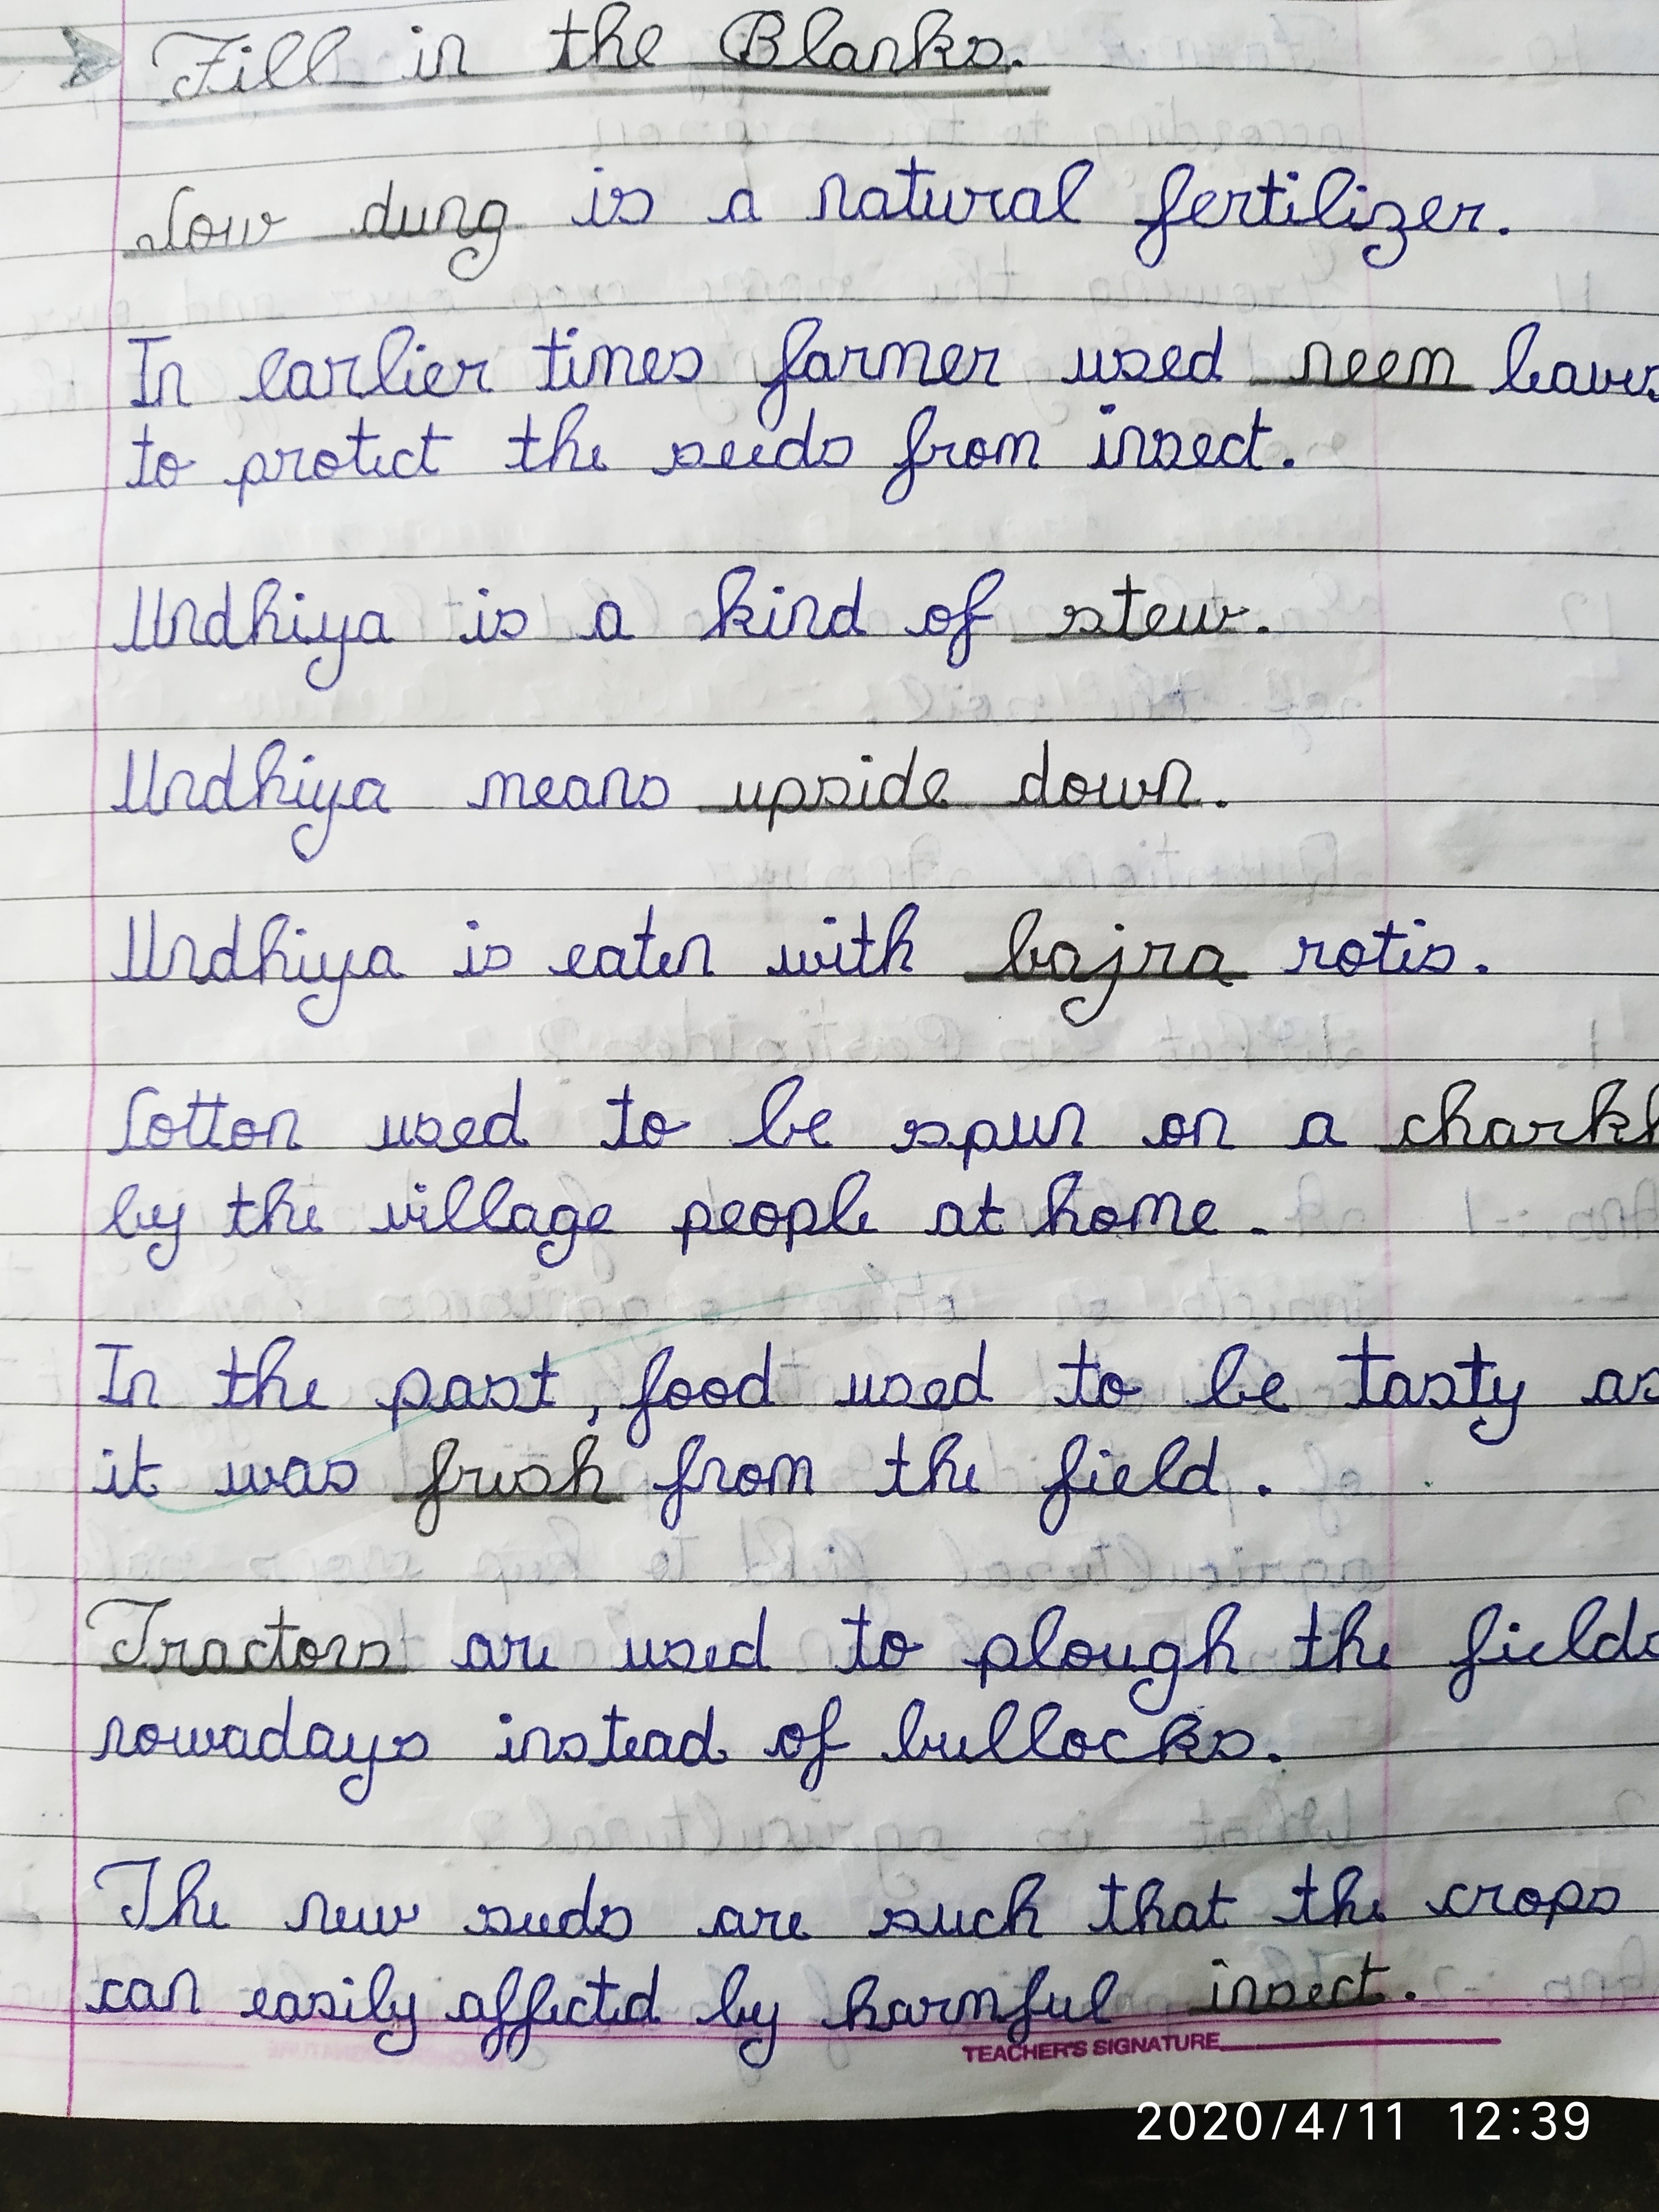A: (1147, 2036, 1162, 2054), (993, 2045, 1007, 2062)
B: (720, 9, 786, 68)
C: (134, 185, 195, 251), (106, 1085, 160, 1157), (1007, 2043, 1023, 2062)
E: (1206, 2031, 1222, 2050), (978, 2045, 993, 2062), (1039, 2043, 1053, 2060)
F: (152, 30, 251, 101)
G: (1114, 2036, 1131, 2055)
H: (1023, 2043, 1039, 2060)
I: (125, 334, 173, 408), (94, 1341, 134, 1407), (1108, 2038, 1114, 2055)
N: (1131, 2036, 1148, 2055)
R: (1053, 2041, 1068, 2059), (1190, 2033, 1206, 2050)
S: (1072, 2041, 1089, 2057), (1093, 2038, 1108, 2055)
T: (84, 1595, 173, 1667), (92, 1855, 164, 1930), (960, 2045, 978, 2064), (1161, 2034, 1175, 2052)
U: (110, 909, 166, 984), (113, 583, 167, 653), (110, 747, 162, 817), (1173, 2033, 1190, 2052)
a: (579, 599, 636, 641), (1182, 944, 1236, 988), (1290, 1109, 1351, 1148), (706, 186, 763, 223), (924, 1200, 969, 1238), (281, 1454, 319, 1500), (460, 1632, 502, 1672), (349, 777, 392, 815), (300, 1721, 338, 1764), (1006, 186, 1047, 225), (1586, 1367, 1628, 1406), (361, 944, 404, 981), (1046, 939, 1082, 982), (1377, 1371, 1417, 1409), (282, 361, 319, 402), (354, 610, 396, 646), (708, 1904, 751, 1939), (556, 773, 594, 812), (439, 1374, 477, 1413), (854, 186, 896, 221), (195, 1637, 234, 1674), (1481, 1116, 1523, 1150), (591, 944, 627, 981), (1546, 361, 1581, 397), (505, 1204, 542, 1238), (124, 1979, 160, 2013), (824, 40, 863, 73), (218, 1723, 251, 1761), (882, 1996, 920, 2029), (800, 350, 835, 383), (641, 1728, 674, 1763), (272, 1989, 305, 2024), (1169, 1900, 1202, 1933), (453, 1991, 488, 2022)
b: (732, 1073, 807, 1150), (995, 907, 1044, 981), (1202, 1341, 1251, 1409), (892, 1696, 934, 1763), (99, 1183, 146, 1238), (714, 1961, 751, 2029)
c: (239, 345, 289, 402), (1094, 1728, 1136, 1764), (1438, 1881, 1474, 1918), (1215, 432, 1246, 472), (92, 1977, 125, 2013), (1399, 1111, 1431, 1148), (239, 1639, 270, 1672), (971, 1905, 1000, 1939), (1328, 1973, 1356, 2008), (390, 448, 418, 479), (563, 1996, 589, 2027)
d: (479, 1076, 533, 1150), (199, 742, 247, 815), (1589, 1595, 1642, 1663), (725, 1604, 775, 1674), (674, 1705, 730, 1766), (774, 406, 821, 472), (204, 913, 247, 984), (254, 1695, 300, 1763), (556, 1871, 601, 1939), (950, 1338, 993, 1407), (824, 575, 870, 641), (877, 745, 920, 813), (735, 1339, 777, 1409), (202, 580, 242, 650), (350, 179, 397, 239), (1176, 1435, 1222, 1496), (1016, 738, 1054, 810), (1185, 324, 1227, 385), (622, 1963, 662, 2026)
e: (547, 944, 591, 981), (1256, 1371, 1293, 1413), (631, 23, 664, 68), (920, 766, 953, 810), (1183, 190, 1220, 228), (805, 1108, 838, 1150), (1187, 1198, 1220, 1238), (1415, 193, 1446, 235), (934, 343, 964, 387), (1373, 348, 1405, 388), (718, 1198, 748, 1237), (451, 1116, 483, 1151), (636, 347, 664, 385), (1159, 343, 1185, 383), (1344, 347, 1370, 387), (920, 1378, 950, 1413), (1143, 603, 1169, 639), (420, 361, 444, 399), (697, 1641, 725, 1674), (786, 1909, 814, 1942), (1190, 432, 1213, 472), (532, 775, 556, 812), (1108, 1463, 1133, 1498), (247, 1986, 272, 2020), (714, 439, 741, 470), (1303, 1982, 1328, 2010), (620, 1735, 641, 1763), (748, 442, 769, 469)
f: (758, 317, 824, 434), (1134, 162, 1195, 268), (946, 568, 1006, 669), (882, 404, 939, 505), (1446, 1602, 1502, 1703), (624, 1345, 674, 1449), (1039, 1433, 1089, 1536), (800, 1695, 850, 1792), (660, 1433, 708, 1531), (413, 1437, 458, 1538), (505, 1973, 556, 2062), (479, 1965, 525, 2062), (1007, 1965, 1051, 2045)
g: (448, 199, 509, 282), (1129, 1641, 1182, 1717), (535, 1204, 580, 1270)
h: (247, 1334, 298, 1413), (1032, 1170, 1086, 1237), (1195, 1601, 1243, 1674), (166, 1857, 213, 1928), (247, 737, 293, 810), (249, 913, 295, 986), (1330, 1599, 1375, 1670), (1002, 1871, 1049, 1939), (545, 402, 591, 472), (880, 900, 920, 979), (1436, 1078, 1480, 1150), (242, 577, 284, 648), (922, 1432, 967, 1494), (592, 0, 633, 70), (565, 1433, 608, 1496), (258, 1177, 303, 1237), (843, 1973, 885, 2033), (1328, 1864, 1366, 1928)
i: (570, 165, 608, 228), (1086, 402, 1117, 470), (458, 587, 493, 644), (453, 920, 486, 979), (401, 23, 432, 82), (397, 343, 430, 397), (823, 914, 849, 977), (760, 583, 788, 641), (1398, 918, 1425, 975), (225, 45, 256, 94), (284, 590, 310, 648), (1340, 185, 1370, 233), (852, 754, 877, 812), (99, 1447, 125, 1500), (563, 326, 584, 390), (293, 752, 315, 812), (413, 1181, 437, 1235), (1284, 167, 1305, 228), (1086, 1449, 1112, 1498), (291, 928, 314, 984), (1208, 1958, 1229, 2013), (1499, 1622, 1525, 1665), (340, 1975, 362, 2024), (497, 1712, 518, 1764)
j: (1060, 921, 1126, 1028), (1131, 1878, 1169, 1933)
k: (699, 564, 760, 641), (1581, 1078, 1633, 1146), (908, 7, 962, 70), (1150, 1712, 1204, 1766)
l: (364, 324, 416, 401), (1492, 320, 1542, 395), (1047, 157, 1098, 225), (793, 5, 845, 70), (1563, 1594, 1608, 1663), (303, 26, 354, 87), (828, 1169, 871, 1237), (256, 30, 305, 89), (1025, 1604, 1066, 1672), (1314, 165, 1356, 232), (1147, 1433, 1188, 1494), (983, 1698, 1021, 1763), (1026, 1702, 1065, 1763), (476, 1176, 514, 1235), (443, 1174, 476, 1235), (368, 1961, 397, 2022), (1087, 1968, 1119, 2024)
m: (873, 338, 934, 387), (464, 770, 532, 812), (1126, 1191, 1187, 1237), (584, 343, 636, 387), (1405, 347, 1455, 390), (765, 1453, 816, 1496), (992, 430, 1044, 470), (955, 1986, 1004, 2026)
n: (1288, 340, 1337, 388), (805, 171, 850, 221), (1155, 758, 1197, 810), (1047, 1101, 1089, 1151), (162, 934, 202, 986), (1188, 1106, 1236, 1150), (293, 1890, 335, 1935), (153, 361, 193, 408), (160, 768, 200, 815), (674, 932, 714, 979), (164, 1966, 202, 2015), (261, 1108, 303, 1151), (863, 35, 908, 75), (786, 594, 824, 641), (167, 597, 202, 648), (596, 766, 633, 812), (124, 1369, 162, 1411), (434, 31, 469, 77), (434, 195, 469, 240), (96, 1716, 131, 1757), (1227, 1973, 1262, 2015), (1115, 425, 1147, 470), (695, 1456, 732, 1494), (518, 1724, 552, 1764), (322, 1634, 352, 1672)
o: (634, 1111, 690, 1151), (875, 1629, 917, 1672), (1141, 1111, 1187, 1148), (904, 603, 951, 637), (139, 1111, 179, 1151), (155, 451, 197, 489), (746, 1200, 782, 1238), (1093, 1372, 1131, 1409), (769, 1721, 803, 1761), (185, 212, 218, 254), (308, 448, 347, 482), (1056, 1639, 1096, 1670), (1056, 1728, 1091, 1763), (131, 1721, 164, 1757), (1084, 1205, 1122, 1237), (227, 1118, 260, 1153), (697, 1376, 732, 1409), (289, 1635, 321, 1672), (1060, 770, 1089, 808), (1335, 939, 1364, 977), (662, 1378, 695, 1411), (732, 1463, 765, 1496), (1509, 1886, 1544, 1918), (960, 435, 990, 470)
p: (387, 1367, 432, 1432), (974, 1634, 1023, 1689), (223, 451, 270, 509), (957, 1118, 1000, 1172), (767, 777, 807, 833), (673, 1200, 713, 1256), (782, 1197, 819, 1252), (1544, 1879, 1584, 1930)
qqcoma: (586, 1402, 599, 1426)
qqfstop: (1256, 1482, 1272, 1498), (1249, 1226, 1269, 1238), (1281, 456, 1297, 470), (1474, 963, 1492, 975), (1265, 1752, 1283, 1764), (1215, 798, 1227, 810), (1403, 1991, 1417, 2001), (1497, 226, 1509, 237), (1011, 59, 1023, 70), (1256, 625, 1270, 634)
r: (319, 354, 362, 401), (960, 186, 1009, 225), (1131, 941, 1178, 979), (1283, 935, 1326, 975), (450, 359, 495, 397), (964, 345, 1002, 388), (148, 1635, 192, 1672), (1523, 1116, 1568, 1150), (1218, 190, 1256, 228), (836, 345, 873, 383), (1446, 200, 1486, 235), (498, 1634, 535, 1670), (749, 1905, 786, 1942), (270, 448, 308, 482), (1473, 1883, 1509, 1918), (451, 1465, 488, 1498), (917, 1996, 955, 2027), (927, 441, 960, 470)
s: (890, 1118, 950, 1153), (1047, 603, 1105, 637), (605, 186, 653, 226), (652, 441, 704, 477), (1108, 345, 1155, 385), (1417, 1369, 1459, 1411), (479, 1372, 523, 1413), (1147, 425, 1182, 472), (633, 773, 674, 812), (1209, 1728, 1256, 1761), (877, 1907, 929, 1937), (321, 1458, 359, 1498), (594, 1904, 634, 1942), (810, 775, 852, 812), (666, 345, 704, 383), (877, 1372, 917, 1409), (472, 1904, 516, 1937), (491, 608, 530, 644), (964, 35, 1004, 70), (411, 1111, 444, 1153), (660, 1637, 699, 1672), (512, 1463, 552, 1496), (390, 1730, 430, 1763), (1419, 942, 1455, 977), (354, 1637, 390, 1672), (554, 1730, 589, 1764), (303, 1991, 343, 2020), (821, 435, 856, 469), (479, 942, 514, 975), (1584, 1885, 1621, 1916), (1262, 1980, 1297, 2012)
t: (1053, 1338, 1098, 1409), (545, 7, 591, 73), (892, 155, 938, 221), (599, 1082, 640, 1151), (1108, 573, 1148, 641), (532, 326, 572, 392), (213, 1345, 251, 1411), (1349, 1331, 1380, 1409), (504, 413, 544, 472), (629, 902, 659, 981), (1096, 1871, 1131, 1935), (221, 1181, 260, 1238), (345, 416, 380, 479), (1290, 1862, 1323, 1926), (124, 421, 155, 489), (1253, 167, 1288, 228), (418, 421, 455, 479), (1371, 918, 1408, 975), (127, 1432, 159, 1498), (884, 1432, 915, 1498), (1298, 1601, 1326, 1672), (1244, 408, 1276, 470), (528, 1350, 559, 1413), (850, 909, 878, 979), (972, 1181, 1007, 1237), (845, 1602, 873, 1672), (589, 1963, 615, 2027), (1466, 1341, 1490, 1409), (181, 1089, 206, 1153), (202, 1092, 228, 1151), (270, 1604, 293, 1670), (1204, 1878, 1232, 1930), (601, 1703, 624, 1764), (1356, 1951, 1378, 2006)
u: (364, 1113, 415, 1151), (1061, 345, 1108, 385), (1006, 1109, 1047, 1151), (920, 186, 957, 226), (1173, 603, 1216, 636), (835, 1372, 875, 1407), (619, 1637, 660, 1670), (931, 1902, 969, 1937), (936, 1730, 972, 1764), (397, 204, 430, 239), (1042, 1991, 1077, 2024), (1098, 1642, 1136, 1672), (734, 780, 765, 813)
v: (380, 1202, 416, 1233), (1586, 359, 1615, 395)
w: (221, 211, 288, 247), (354, 1902, 420, 1939), (1094, 772, 1152, 810), (221, 1460, 279, 1496), (767, 944, 826, 979), (167, 1724, 218, 1757)
y: (298, 948, 356, 1029), (291, 779, 343, 864), (1469, 1376, 1527, 1447), (305, 611, 352, 693), (338, 1731, 382, 1806), (373, 1991, 418, 2057), (146, 1202, 188, 1273), (737, 2000, 779, 2069)
z: (1361, 200, 1408, 270)
